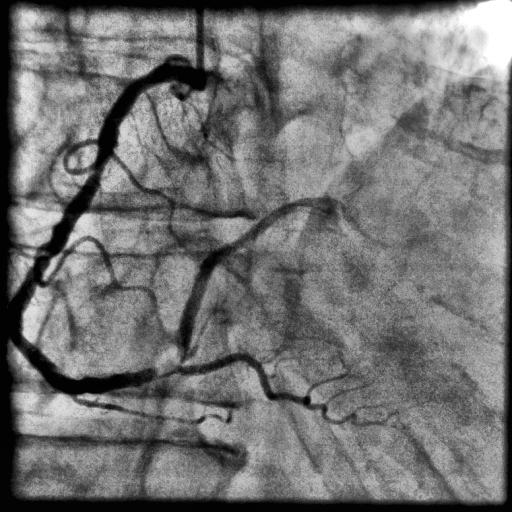pborca: (175, 198, 337, 363)
pda: (177, 353, 357, 424)
rca: (8, 64, 205, 394)
